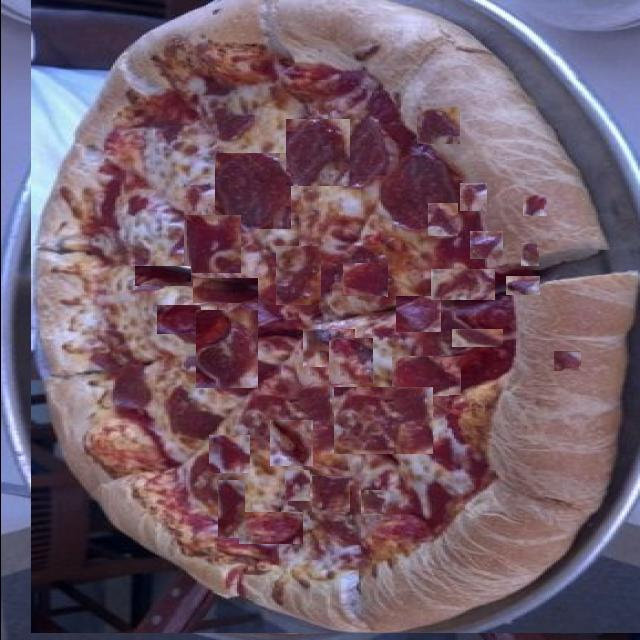pepperoni: (333, 387, 432, 454), (214, 153, 290, 229), (195, 310, 257, 388), (152, 338, 230, 396), (285, 120, 349, 188), (448, 386, 508, 442), (183, 215, 240, 273), (255, 90, 306, 147), (434, 452, 484, 508), (391, 356, 460, 396), (275, 246, 320, 305), (519, 364, 562, 422), (238, 512, 302, 544), (328, 338, 372, 384), (430, 269, 494, 300), (269, 420, 312, 466), (302, 329, 354, 367), (192, 278, 257, 303), (395, 296, 440, 332), (206, 435, 248, 473), (416, 107, 459, 144), (217, 481, 244, 538), (341, 264, 386, 298), (311, 476, 349, 512), (156, 305, 200, 334), (309, 521, 357, 547), (134, 266, 190, 286), (427, 203, 457, 236), (469, 231, 502, 259), (451, 329, 502, 347), (385, 284, 408, 321), (282, 470, 308, 501), (459, 183, 486, 211), (505, 276, 539, 295), (360, 490, 385, 514), (553, 351, 580, 371), (522, 195, 546, 216), (520, 243, 538, 266), (307, 554, 331, 566)
pizza: (30, 0, 640, 633)
